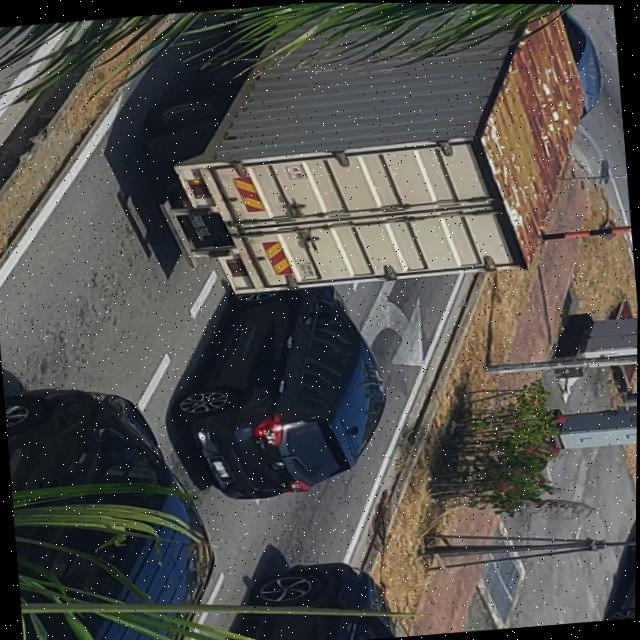truck: (137, 0, 602, 304)
